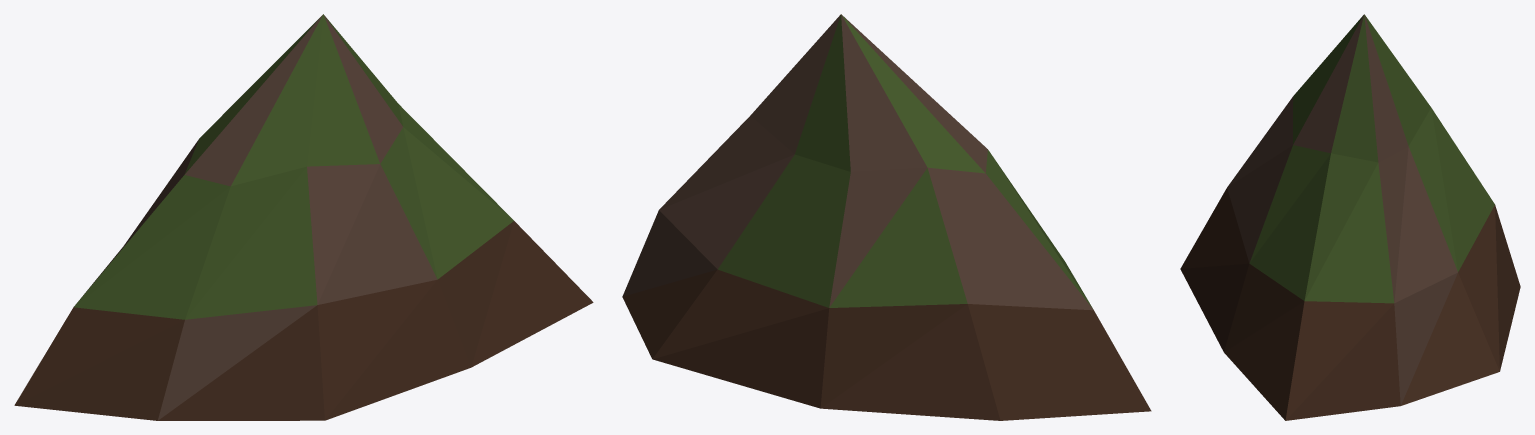
Rendered from Mountain_B.obj.
3 renders of one model, left to right at view 1: azimuth 30°, elevation 25°; view 2: azimuth 150°, elevation 25°; view 3: azimuth 270°, elevation 25°, orthographic. The views are drawn at different scales.
Parts seen in each view (by area): view 1: Mountain_B; view 2: Mountain_B; view 3: Mountain_B.
Boxes of the visible parts, box(x1,y1,x2,y2) form: Mountain_B: box(14, 14, 593, 420); Mountain_B: box(622, 14, 1151, 420); Mountain_B: box(1180, 14, 1520, 420).
Size of the model in its own units: 85.52 by 48.37 by 49.1.
